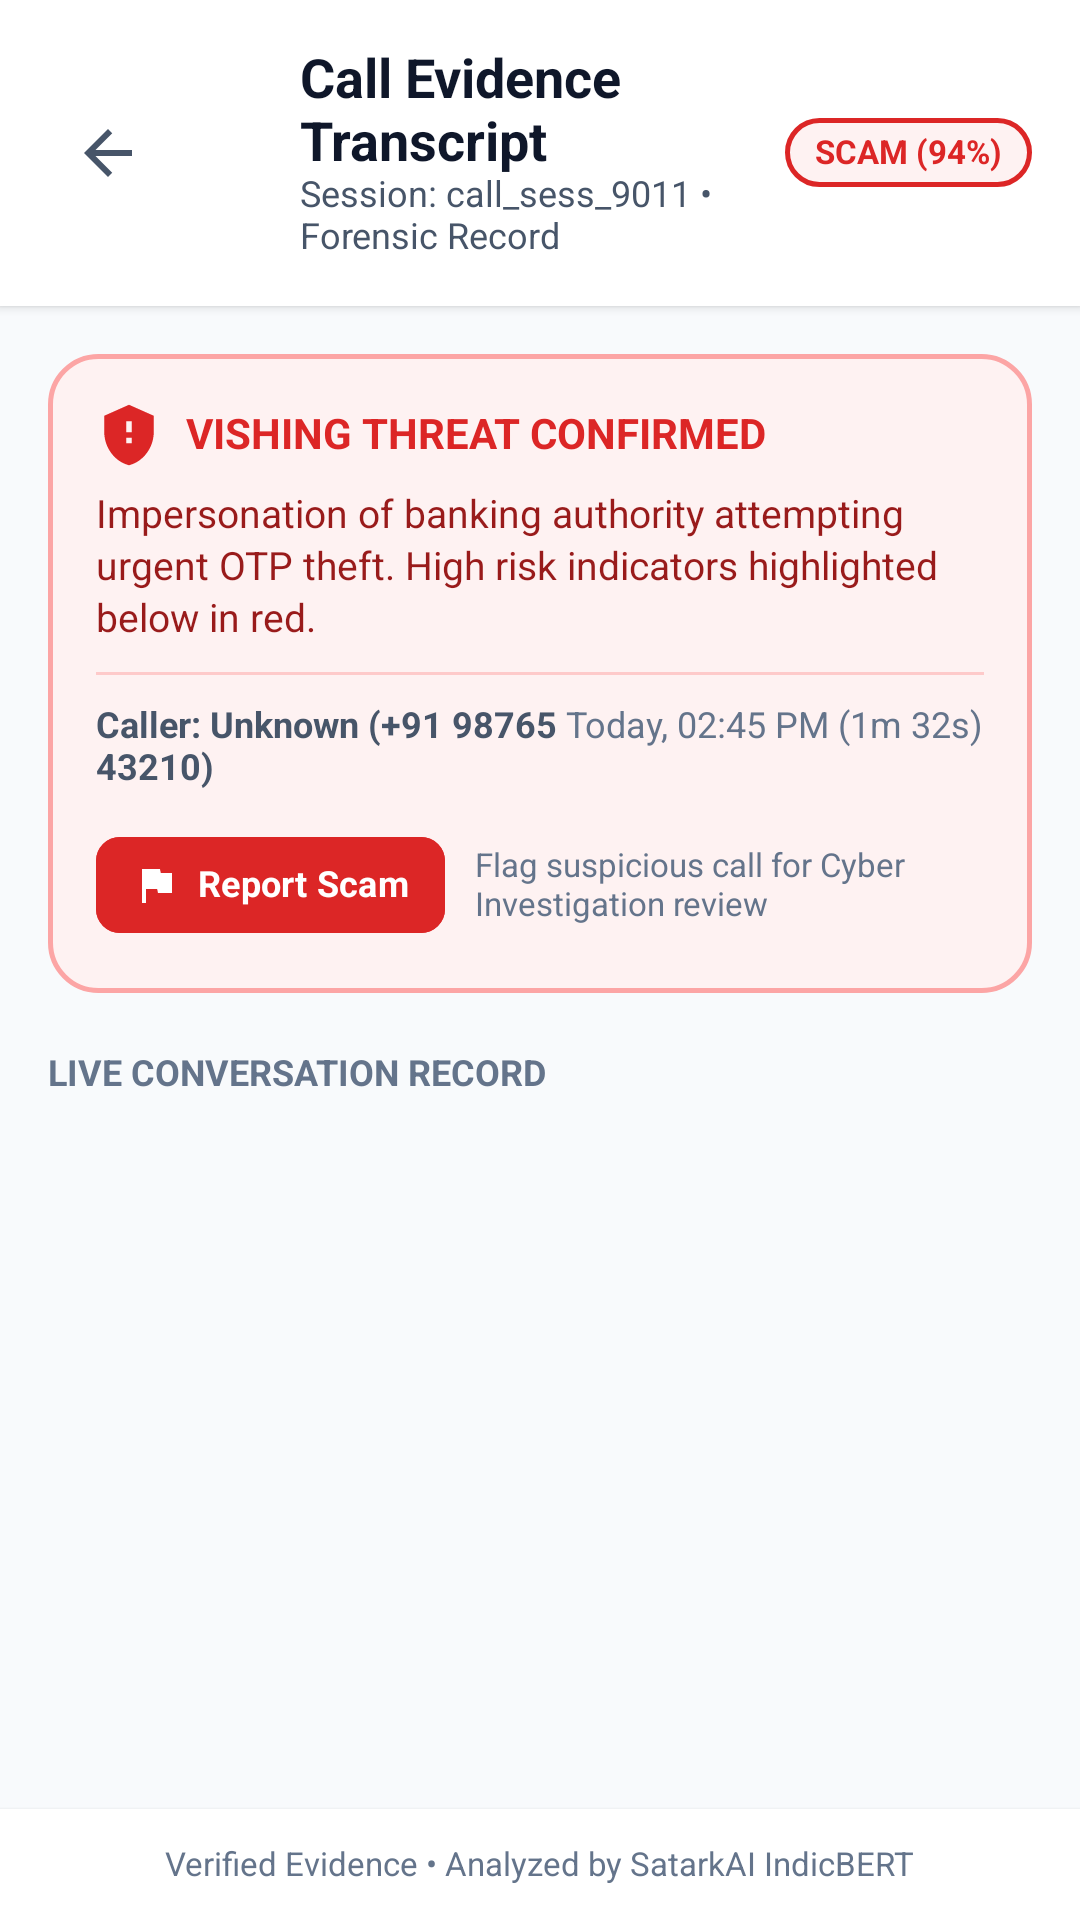

Locate icon controls on the screen. Image size 1080 x 1920, boxes as (x1, y1, x2, y2).
Back: (84, 129, 132, 177)
Threat Status: (104, 405, 154, 466)
